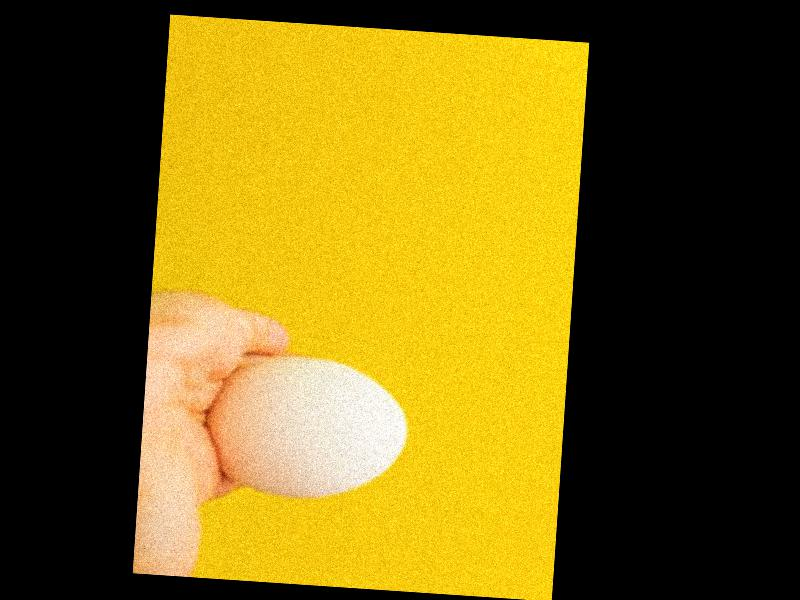Eggs: (204, 351, 413, 499)
